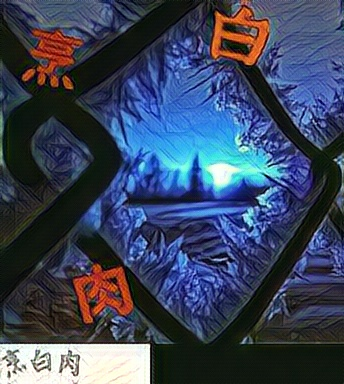B0D7: (208, 4, 270, 68)
C5EB: (20, 26, 82, 90)
C8E2: (71, 259, 133, 323)
